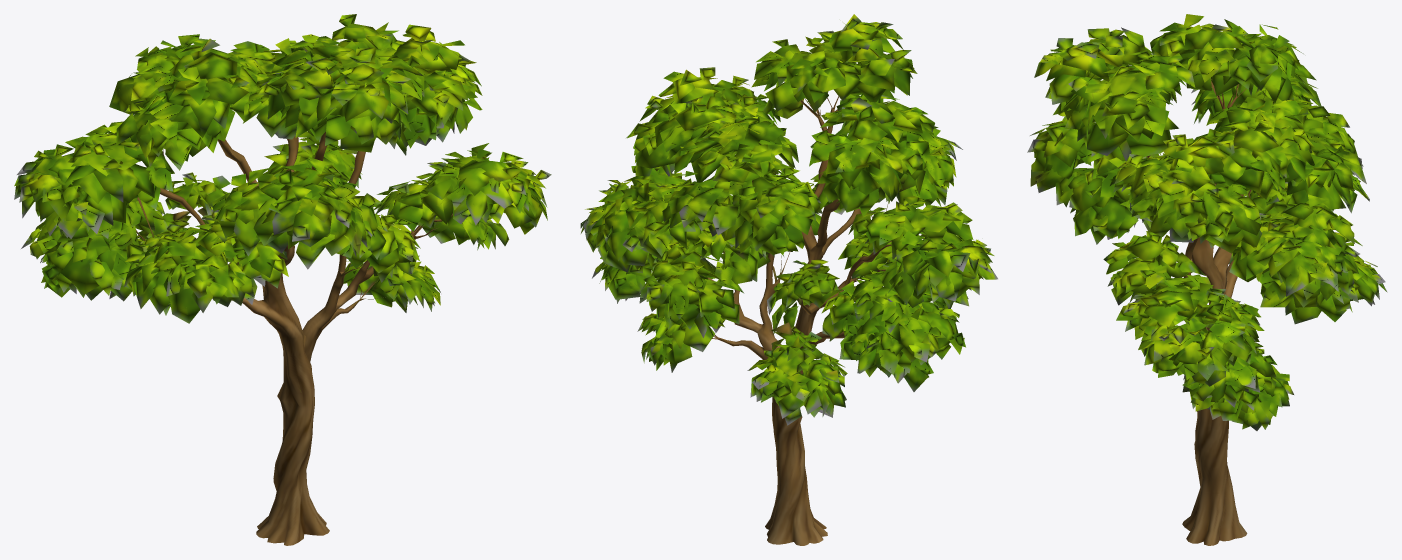
File: yard_tree.fbx
The picture shows the model from 3 angles, left to right: view 1: azimuth 30°, elevation 25°; view 2: azimuth 150°, elevation 25°; view 3: azimuth 270°, elevation 25°; orthographic projection. The views are drawn at different scales.
Visible parts, largest first — view 1: geometry_0; view 2: geometry_0; view 3: geometry_0.
Part boxes in pixels (x1,y1,x2,y2): geometry_0: (14,14,551,545); geometry_0: (580,14,997,545); geometry_0: (1027,14,1387,545).
Size of the model in its own units: 93.16 by 95.07 by 63.82.
Materials: 1 (1 with a texture image).
